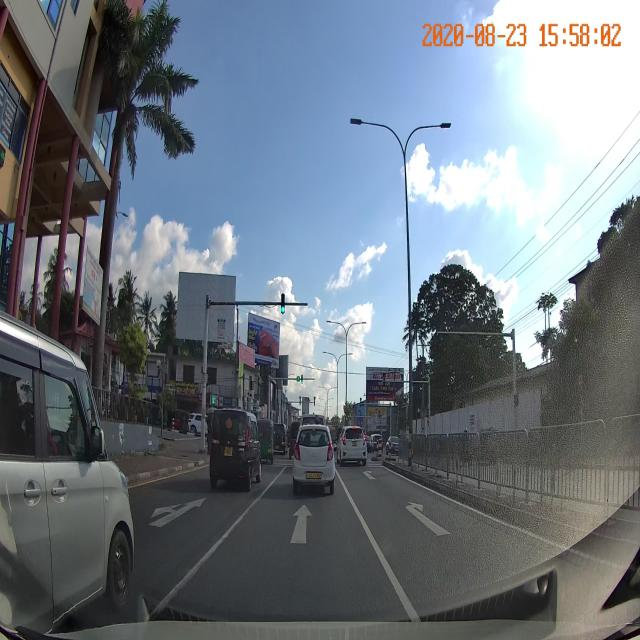Strelka vpered: (290, 504, 313, 544)
Strelka vpered - vlevo: (148, 496, 208, 530)
Strelka vpravo: (406, 502, 453, 536), (363, 470, 376, 480)
